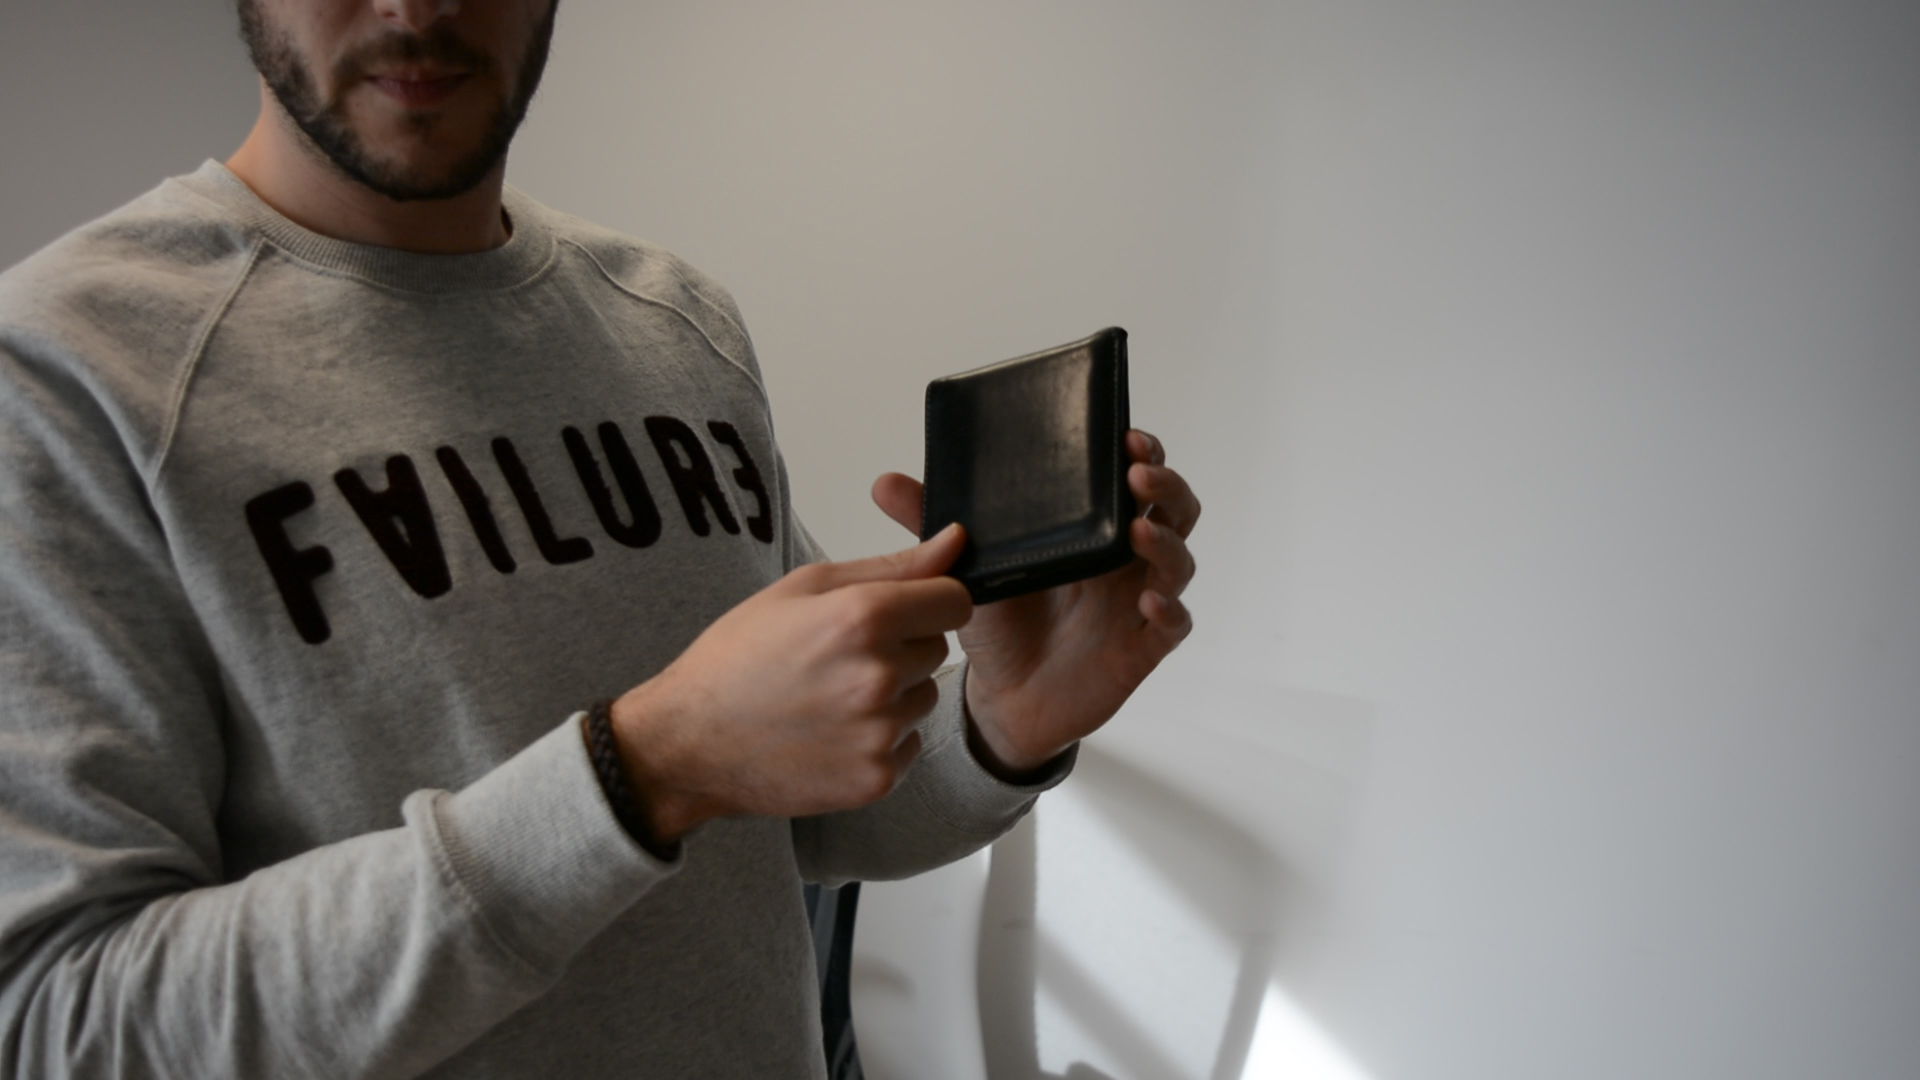monedero: (920, 324, 1138, 608)
